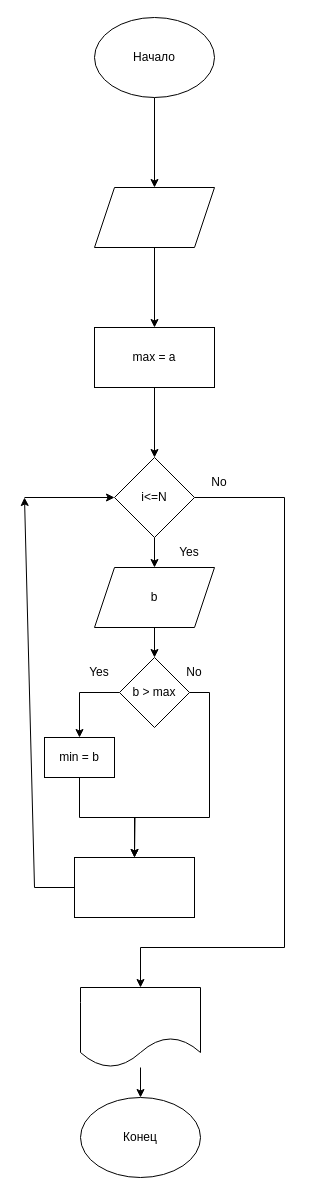
Image size: 310x1195. Some labels were removed from this diagram. The centre of each missing label's shape, as x and y in pixels:
"i +=1" goes at pixel 134 887.
"max" goes at pixel 140 1027.
"N a" goes at pixel 154 217.
